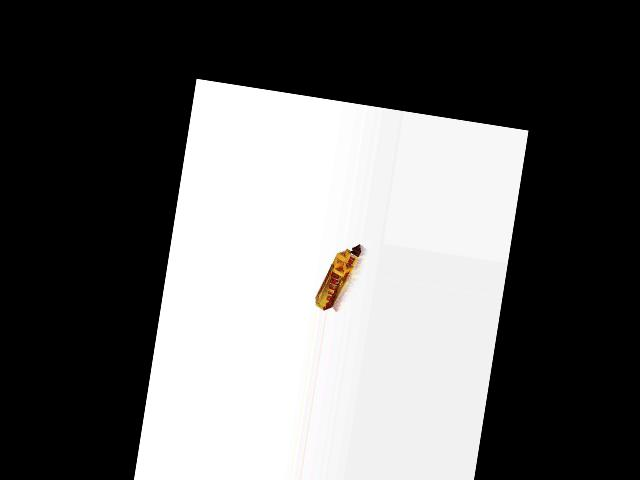chocolate: (312, 238, 365, 314)
